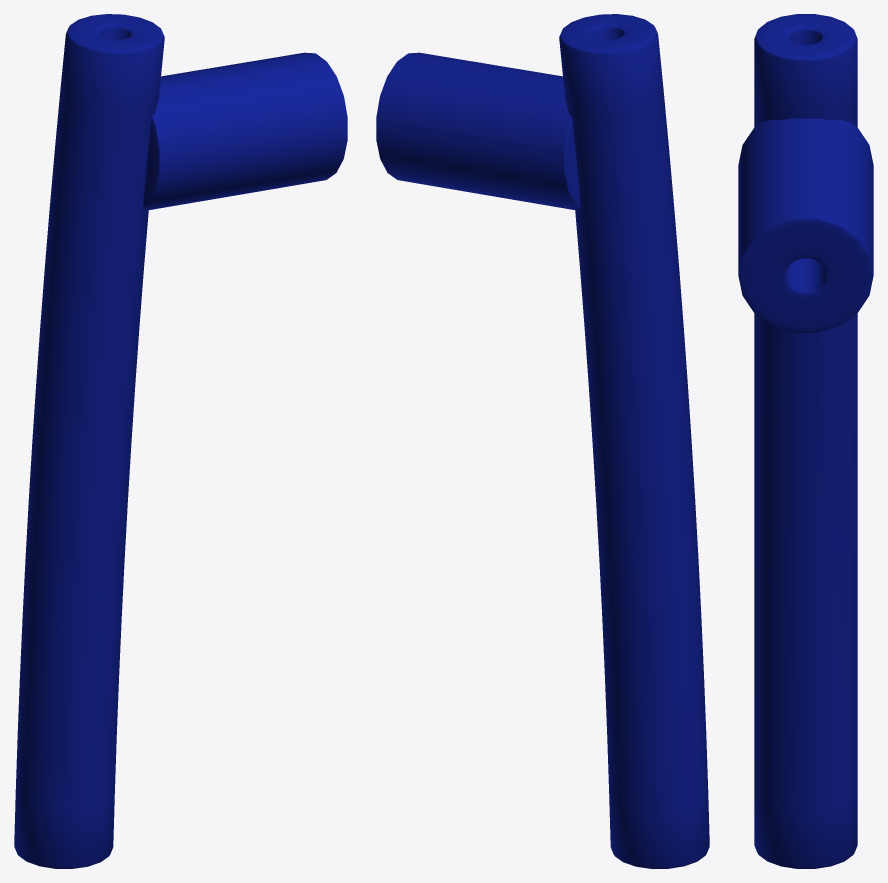
The model's file is noodle.fbx.
The picture shows the model from 3 angles, left to right: view 1: azimuth 30°, elevation 25°; view 2: azimuth 150°, elevation 25°; view 3: azimuth 270°, elevation 25°; orthographic projection. The views are drawn at different scales.
Visible parts, largest first — view 1: Tube001; view 2: Tube001; view 3: Tube001.
Part boxes in pixels (x1=…): Tube001: x1=14, y1=14, x2=347, y2=868; Tube001: x1=376, y1=14, x2=709, y2=868; Tube001: x1=738, y1=14, x2=873, y2=868.
Bounding box in the file's own units: 10.1 × 26 × 3.78.
